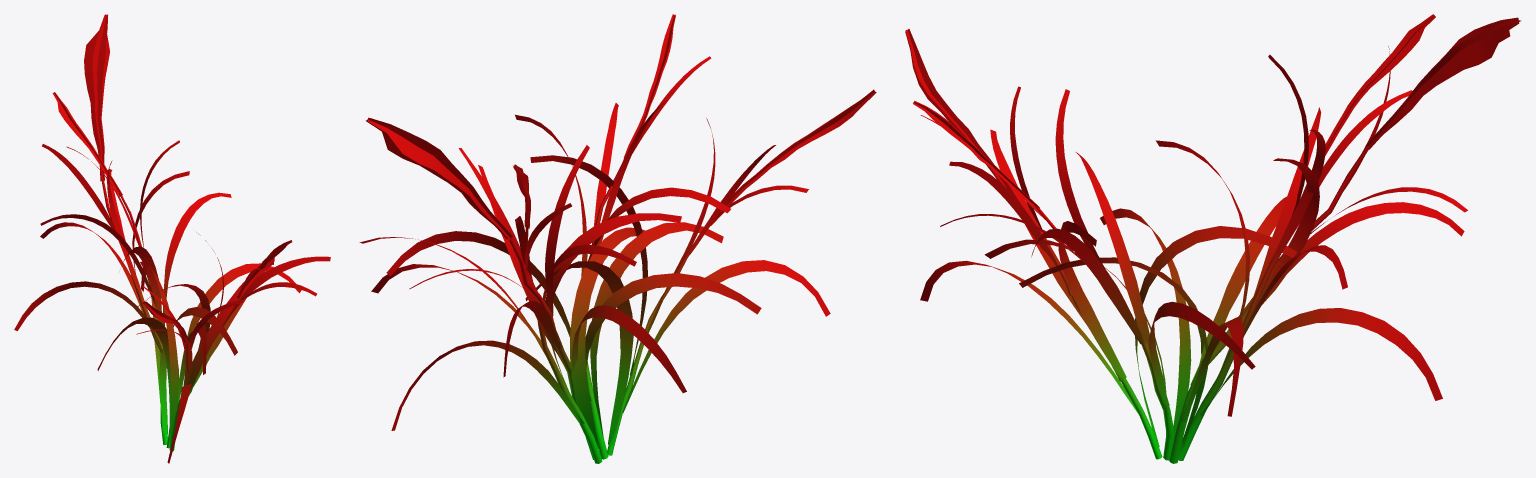
The model's file is tjugaikia_Var1_LOD0.fbx.
3 views of the same model, side by side, from view 1: azimuth 30°, elevation 25°; view 2: azimuth 150°, elevation 25°; view 3: azimuth 270°, elevation 25° (orthographic). The views are drawn at different scales.
Parts seen in each view (by area): view 1: _7d59_Var1_LOD0; view 2: _7d59_Var1_LOD0; view 3: _7d59_Var1_LOD0.
Boxes of the visible parts, bbox=[...] form: _7d59_Var1_LOD0: bbox=[14, 14, 330, 463]; _7d59_Var1_LOD0: bbox=[359, 14, 876, 463]; _7d59_Var1_LOD0: bbox=[905, 14, 1521, 463].
Size of the model in its own units: 68.34 by 80.28 by 93.04.
